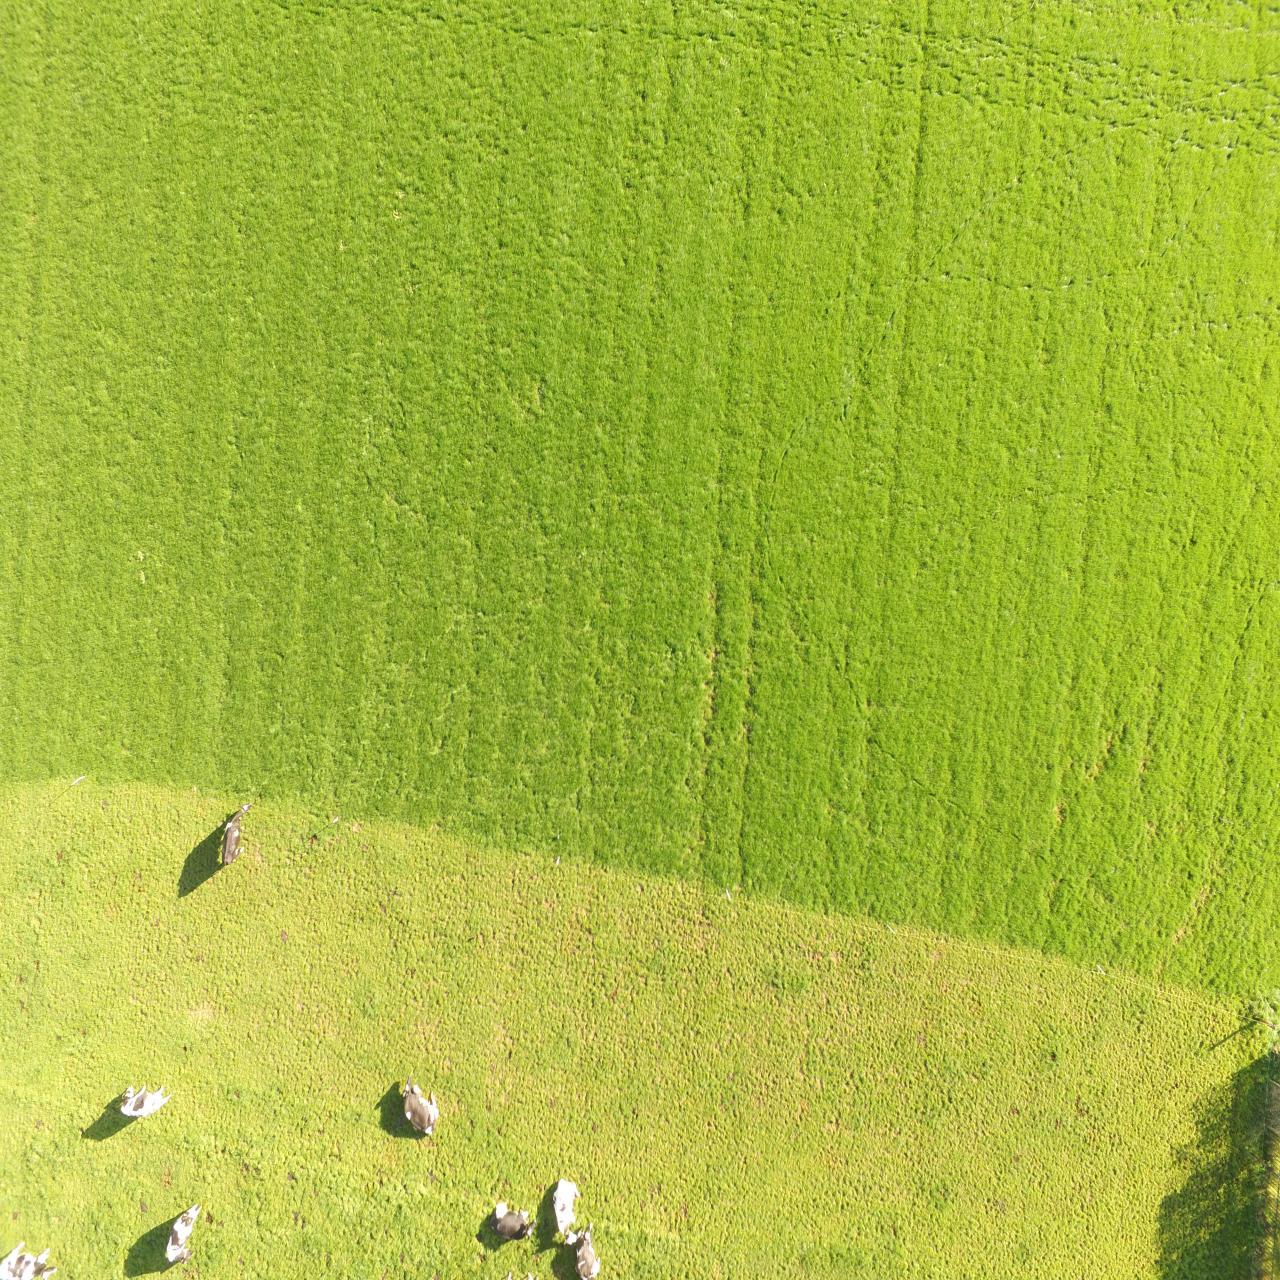cow: (212, 799, 253, 866), (165, 1205, 203, 1271), (0, 1239, 58, 1280), (406, 1074, 438, 1140), (118, 1082, 174, 1119), (488, 1200, 536, 1242), (555, 1173, 577, 1245), (578, 1219, 601, 1280)
